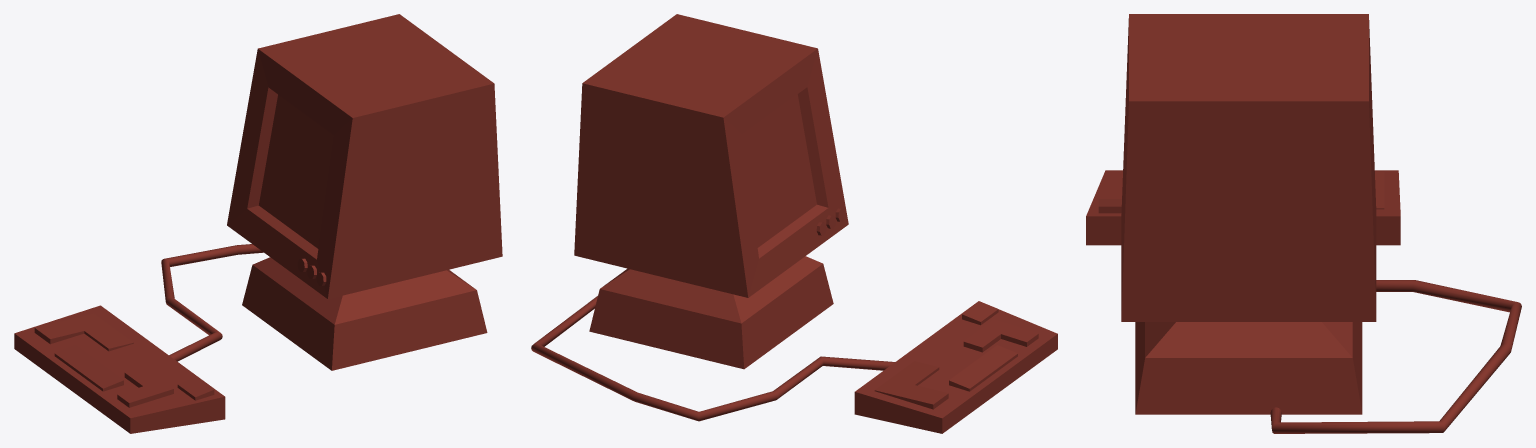
File: Komputer.fbx
The picture shows the model from 3 angles, left to right: view 1: azimuth 30°, elevation 25°; view 2: azimuth 150°, elevation 25°; view 3: azimuth 270°, elevation 25°; orthographic projection. The views are drawn at different scales.
Parts seen in each view (by area): view 1: Cube.005, Cube.006, BézierCurve.001, Cube.010, Cube.012, Cube.013, Cube.009; view 2: Cube.005, Cube.006, BézierCurve.001, Cube.010, Cube.012, Cube.013, Cube.009; view 3: Cube.005, BézierCurve.001, Cube.006.
Part boxes in pixels (x1,y1,x2,y2): Cube.005: (227,14,502,370); Cube.006: (14,305,225,433); BézierCurve.001: (161,244,263,361); Cube.010: (34,313,133,351); Cube.012: (54,344,123,391); Cube.013: (117,366,173,407); Cube.009: (177,376,214,400); Cube.005: (574,14,848,369); Cube.006: (854,301,1057,433); BézierCurve.001: (531,296,894,421); Cube.010: (874,361,948,409); Cube.012: (949,345,1017,391); Cube.013: (963,319,1038,352); Cube.009: (962,301,998,325); Cube.005: (1121,14,1376,414); BézierCurve.001: (1270,280,1521,433); Cube.006: (1086,170,1400,245).
Size of the model in its own units: 55.38 by 33.9 by 41.81.
